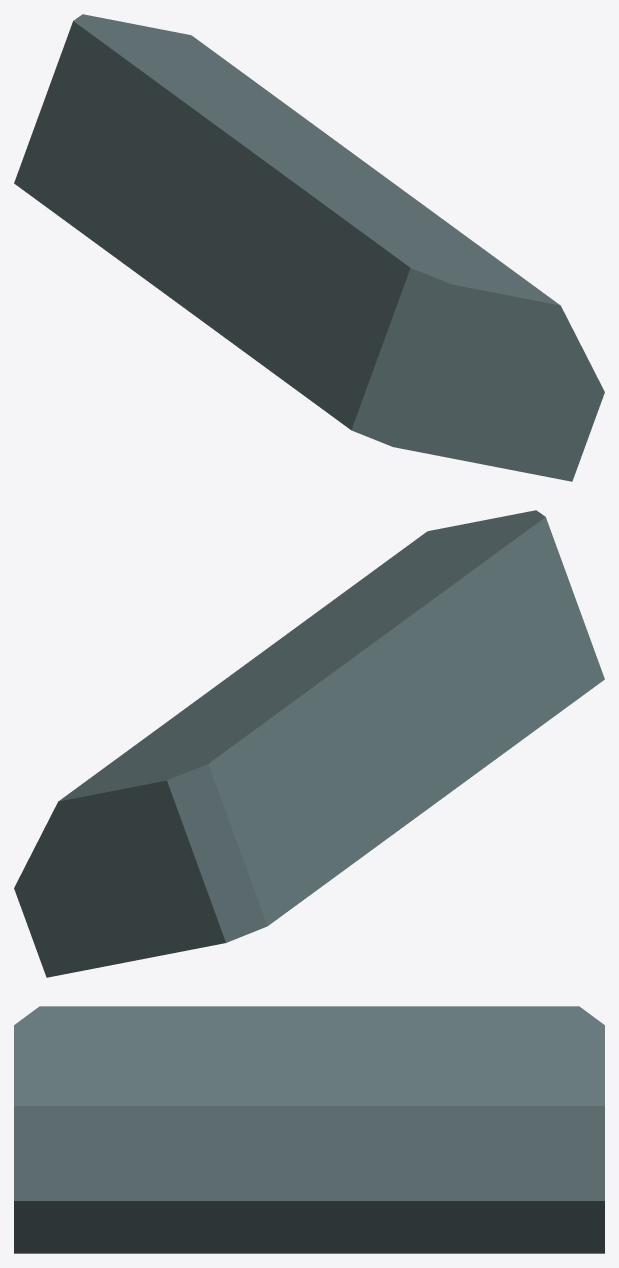
The model's file is SM_Lamp.fbx.
3 views of the same model, one above another, from view 1: azimuth 30°, elevation 25°; view 2: azimuth 150°, elevation 25°; view 3: azimuth 270°, elevation 25° (orthographic). The views are drawn at different scales.
Parts seen in each view (by area): view 1: SM_Lamp; view 2: SM_Lamp; view 3: SM_Lamp.
Boxes of the visible parts, x1,y1,x2,y2 form: SM_Lamp: (14, 14, 604, 481); SM_Lamp: (14, 510, 604, 977); SM_Lamp: (14, 1006, 604, 1253).
Size of the model in its own units: 72.85 by 69.66 by 196.
Materials: 1 (1 with a texture image).
